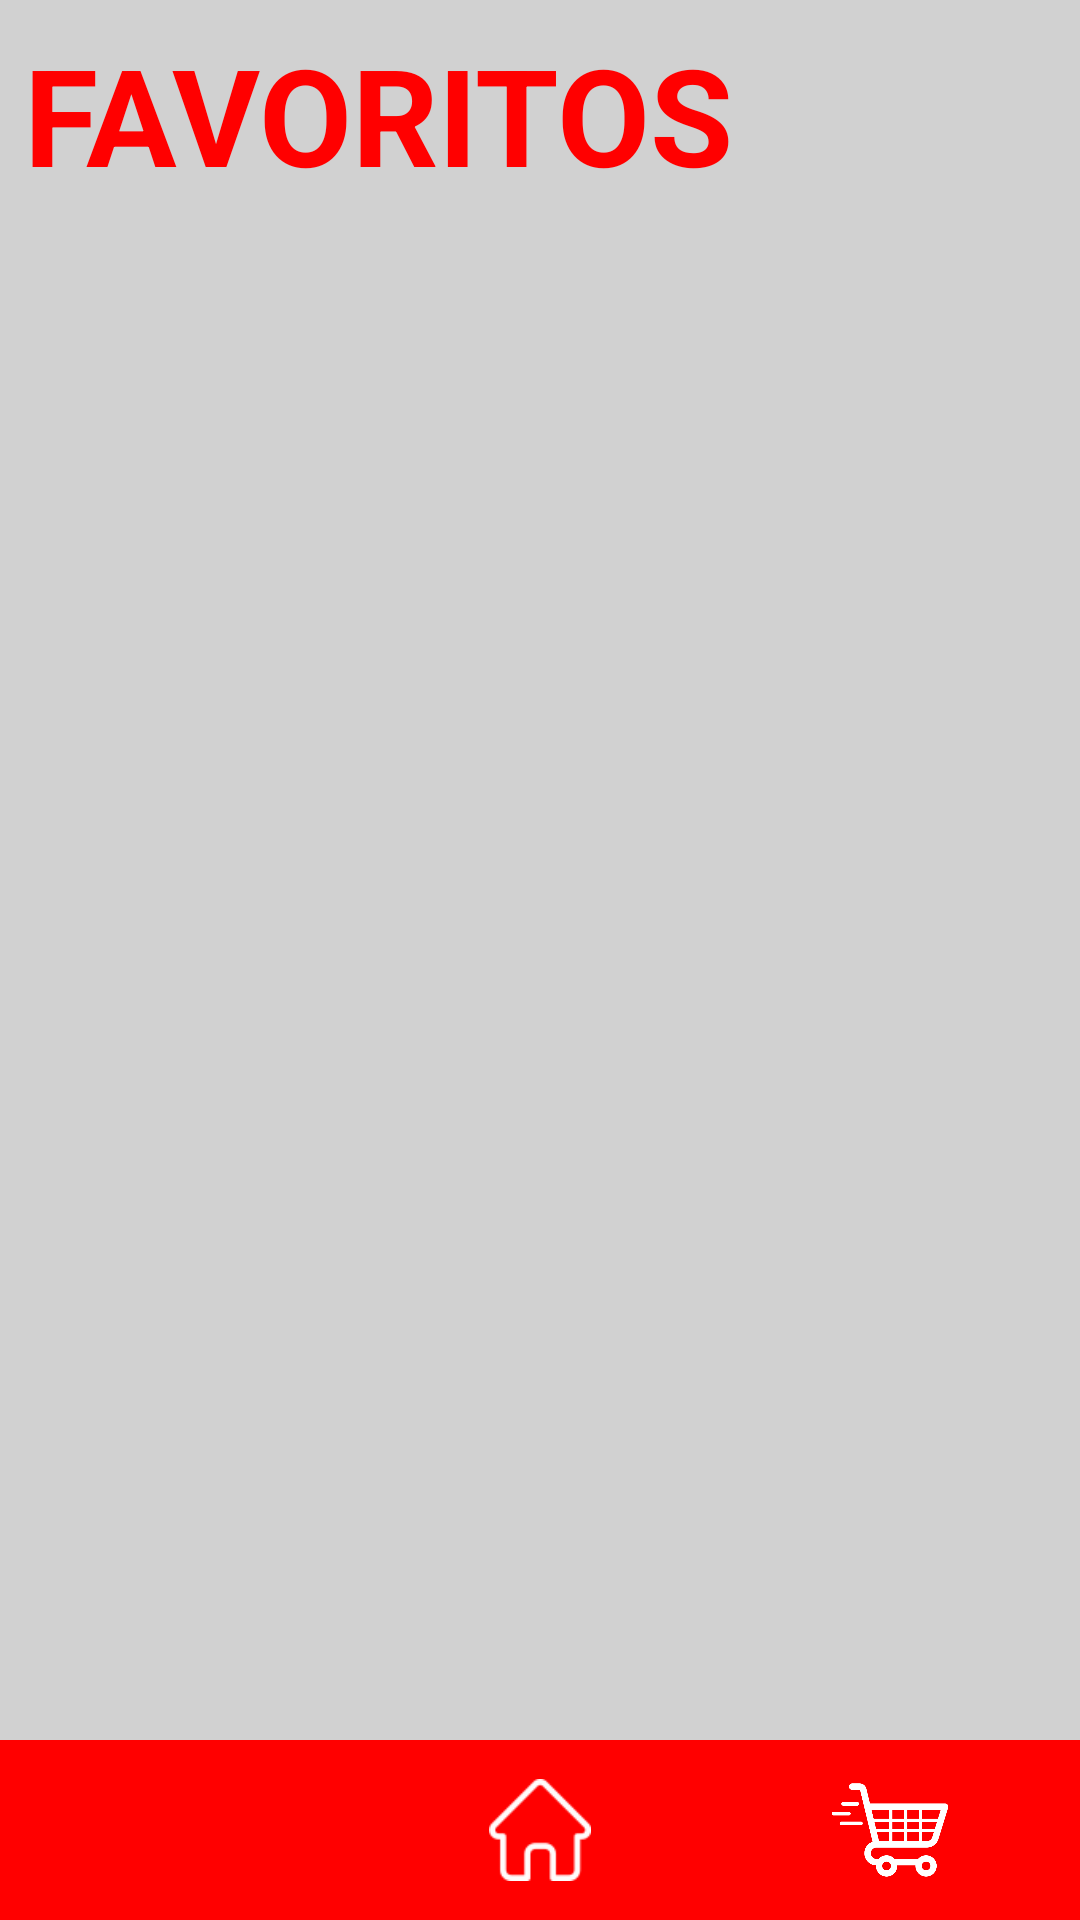

Named icons in this screenshot (1080px×1920px) and their centers, (x=x, y=y):
Carrito: (x=890, y=1830)
Inicio: (x=540, y=1830)
